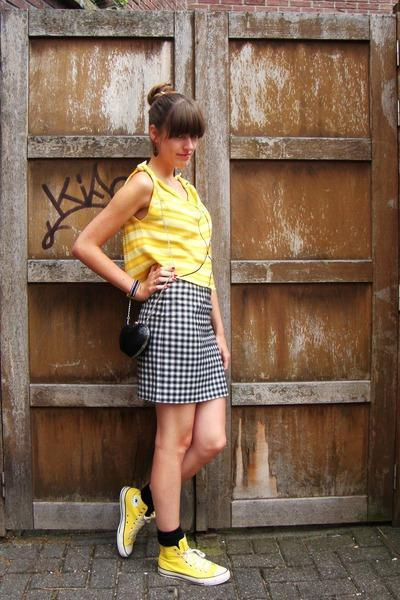bag: (116, 280, 151, 356)
shirt: (123, 161, 215, 295)
shoe: (117, 487, 227, 584)
skirt: (124, 276, 230, 406)
